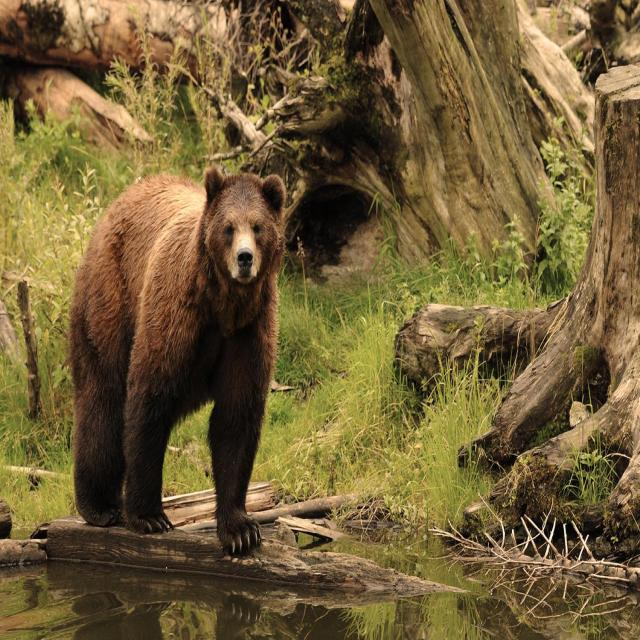Bear: (68, 168, 287, 559)
